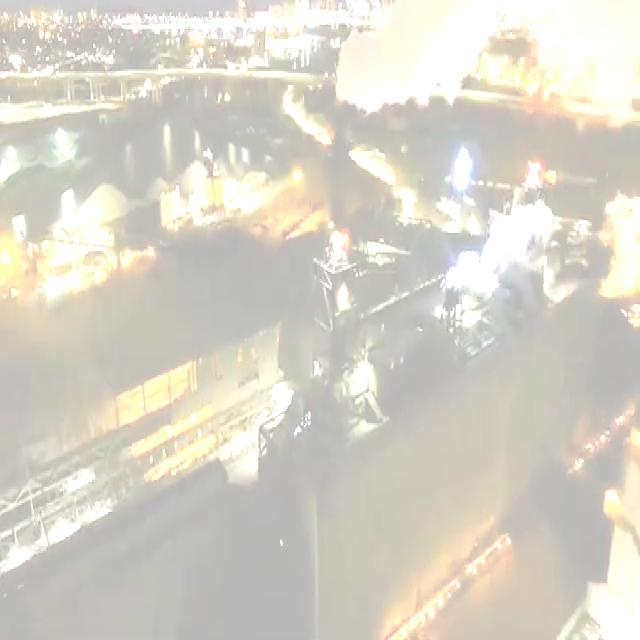smoke: (338, 0, 495, 110), (444, 185, 554, 311)
